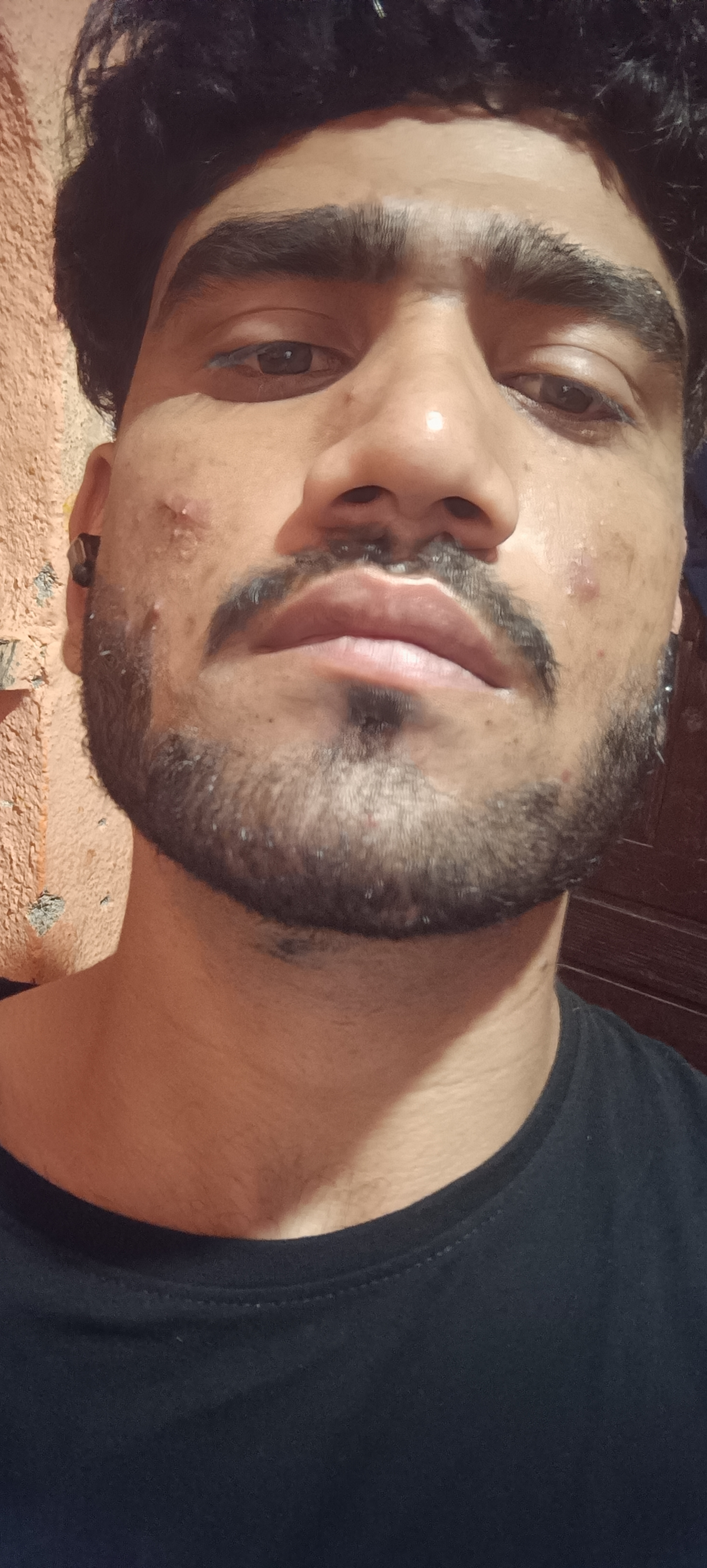nodule: (160, 484, 212, 535), (578, 572, 608, 600)
papule: (142, 600, 172, 619)
